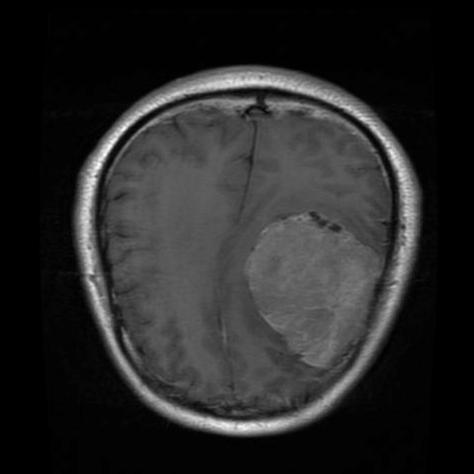Tumour-Pituitary: (197, 168, 395, 390)
